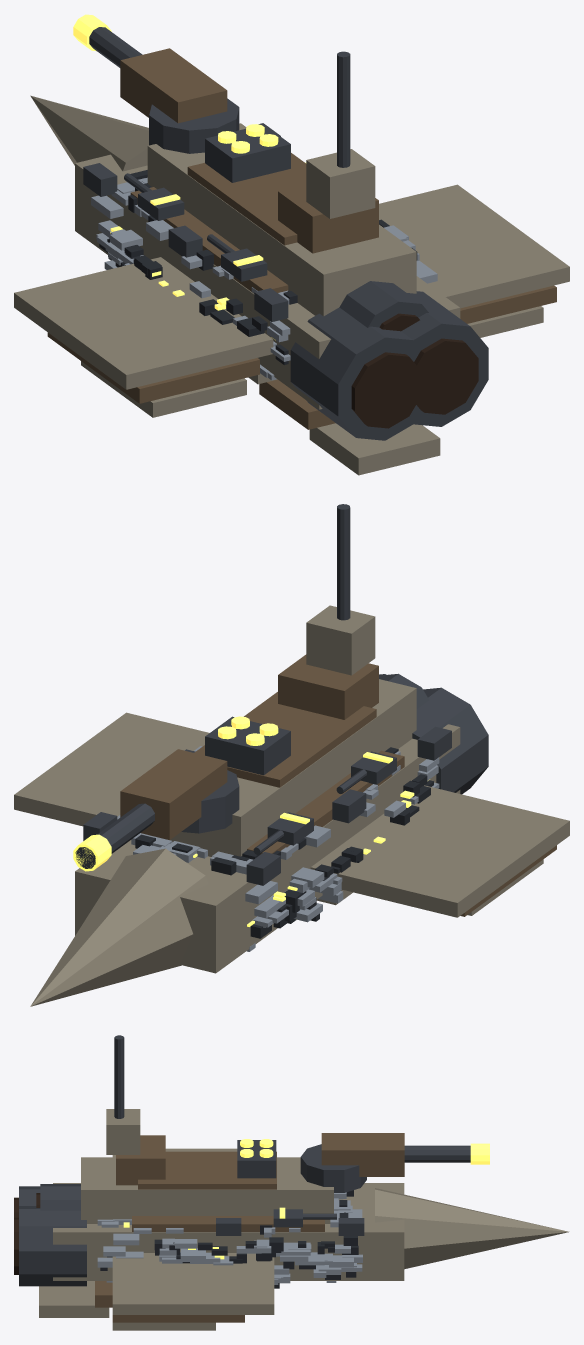
Rendered from plektor_sinho.glb.
3 renders of one model, top to bottom at view 1: azimuth 30°, elevation 25°; view 2: azimuth 150°, elevation 25°; view 3: azimuth 270°, elevation 25°, orthographic. The views are drawn at different scales.
Visible parts, largest first — view 1: hull, engines, turret_0, launcher_0, aux_0, aux_2, pd_4, pd_0, pd_2; view 2: hull, turret_0, engines, launcher_0, aux_0, aux_2, pd_0, pd_4, pd_2; view 3: hull, turret_0, engines, launcher_0, aux_1, pd_1, pd_3.
Part boxes in pixels (box(x1,y1,x2,y2)): hull: box(14, 51, 569, 475); engines: box(290, 281, 488, 440); turret_0: box(73, 14, 239, 153); launcher_0: box(205, 124, 290, 182); aux_0: box(124, 173, 184, 220); aux_2: box(207, 234, 267, 281); pd_4: box(254, 288, 288, 321); pd_0: box(83, 163, 117, 196); pd_2: box(168, 225, 202, 257); hull: box(14, 504, 569, 1006); turret_0: box(73, 749, 239, 871); engines: box(379, 673, 488, 794); launcher_0: box(205, 716, 290, 775); aux_0: box(253, 812, 313, 854); aux_2: box(336, 751, 396, 793); pd_0: box(246, 852, 280, 885); pd_4: box(417, 726, 451, 760); pd_2: box(332, 789, 366, 823); hull: box(39, 1035, 569, 1330); turret_0: box(300, 1133, 489, 1192); engines: box(14, 1184, 86, 1286); launcher_0: box(237, 1139, 276, 1178); aux_1: box(273, 1207, 336, 1227); pd_1: box(338, 1218, 364, 1235); pd_3: box(216, 1218, 241, 1235).
Bounding box in the file's own units: 112 × 89.4 × 169.
